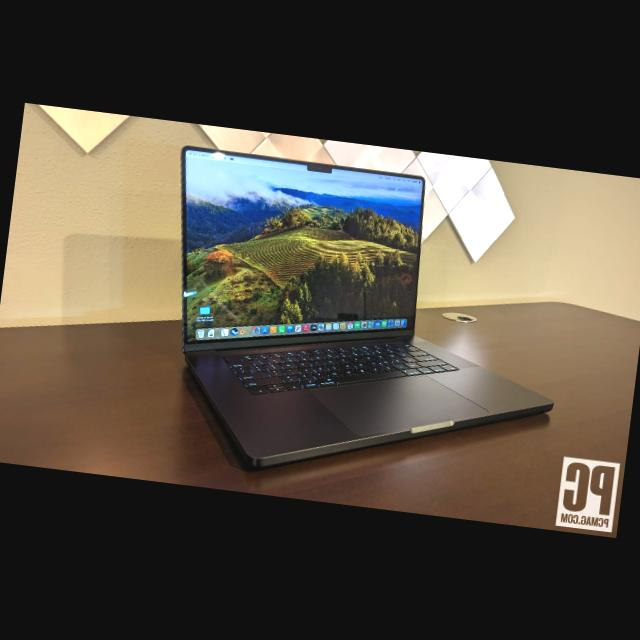laptop: (133, 135, 592, 491)
